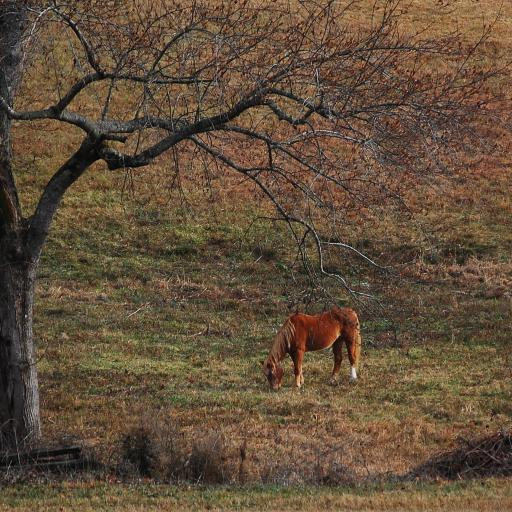horse: (260, 304, 362, 394)
